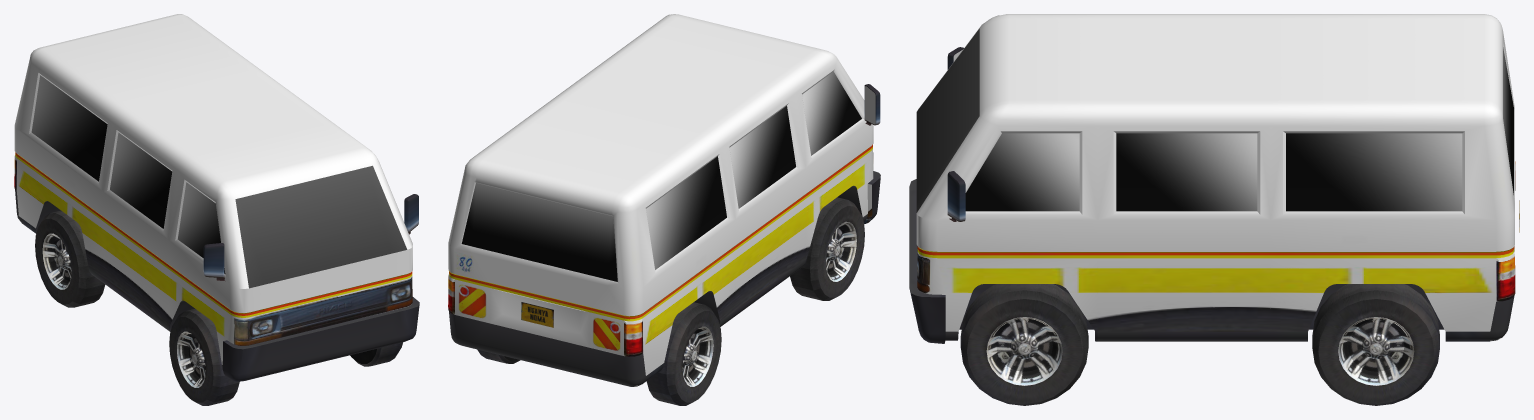
File: Matatu.dae
3 views of the same model, side by side, from view 1: azimuth 30°, elevation 25°; view 2: azimuth 150°, elevation 25°; view 3: azimuth 270°, elevation 25° (orthographic). The views are drawn at different scales.
Visible parts, largest first — view 1: body, wheel_rear.r, wheel_front.r, side_mirror.r, wheel_front.l, side_mirror.l; view 2: body, wheel_rear.r, wheel_front.r, number_plate, side_mirror.r; view 3: body, wheel_front.l, wheel_rear.l, side_mirror.l.
Part boxes in pixels (x1,y1,x2,y2): body: [14, 14, 419, 381]; wheel_rear.r: [35, 210, 105, 307]; wheel_front.r: [169, 308, 239, 405]; side_mirror.r: [203, 243, 224, 278]; wheel_front.l: [350, 342, 402, 366]; side_mirror.l: [404, 194, 418, 232]; body: [448, 14, 880, 386]; wheel_rear.r: [646, 302, 721, 405]; wheel_front.r: [790, 197, 864, 300]; number_plate: [521, 302, 554, 327]; side_mirror.r: [864, 84, 880, 125]; body: [909, 14, 1515, 343]; wheel_front.l: [960, 284, 1088, 405]; wheel_rear.l: [1312, 284, 1439, 405]; side_mirror.l: [947, 171, 965, 221].
Size of the model in its own units: 2.21 by 4.15 by 2.16.
Materials: 3 (2 with a texture image).
